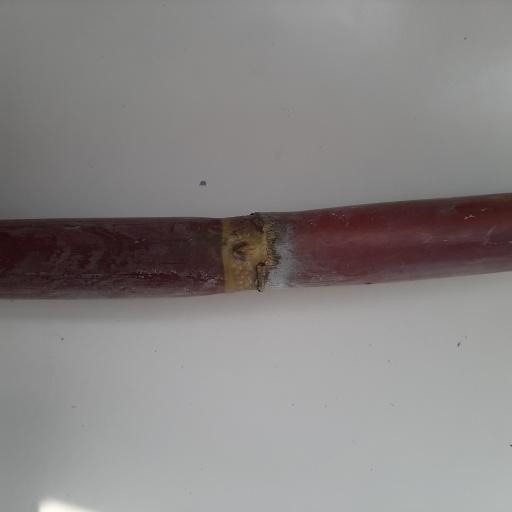Bud: (229, 239, 259, 263)
